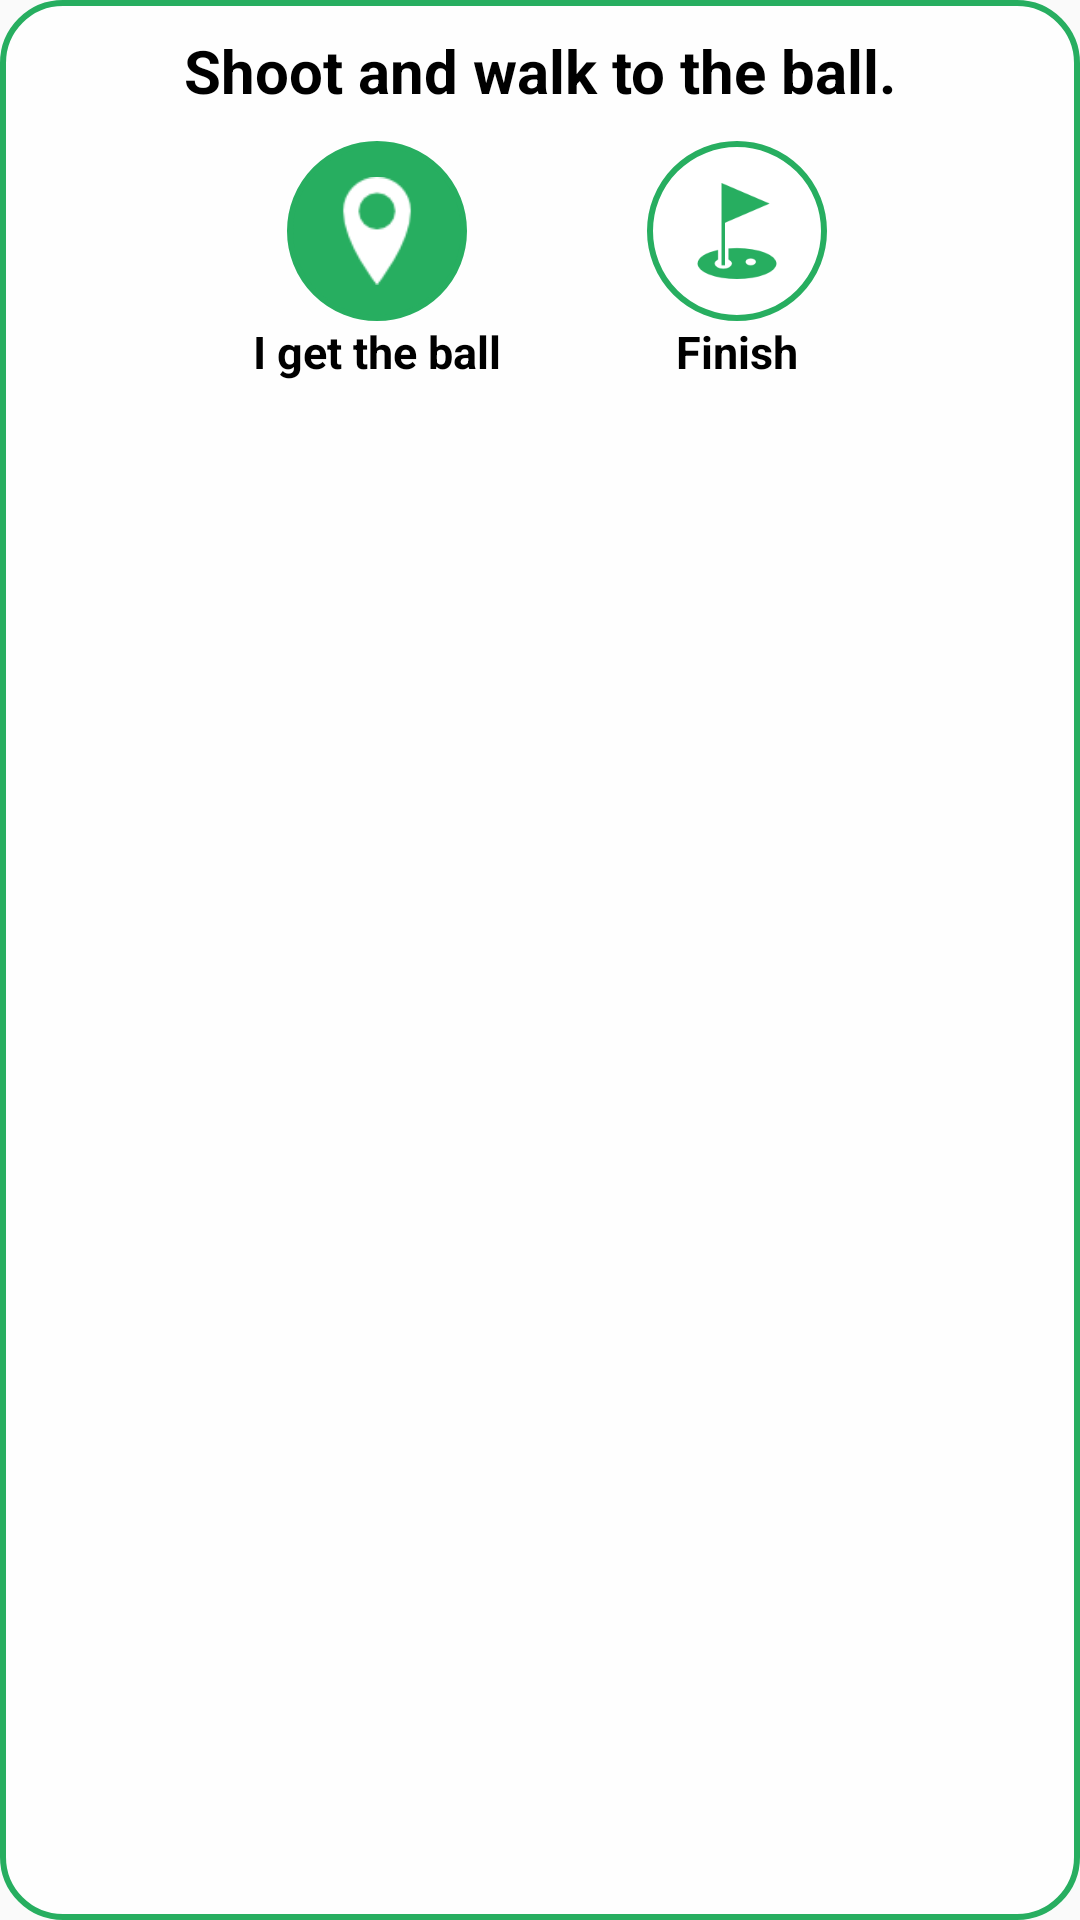

Icon click points for this 1080w x 1920h phone screenshot, format (x=x, y=y):
location: (x=377, y=231)
